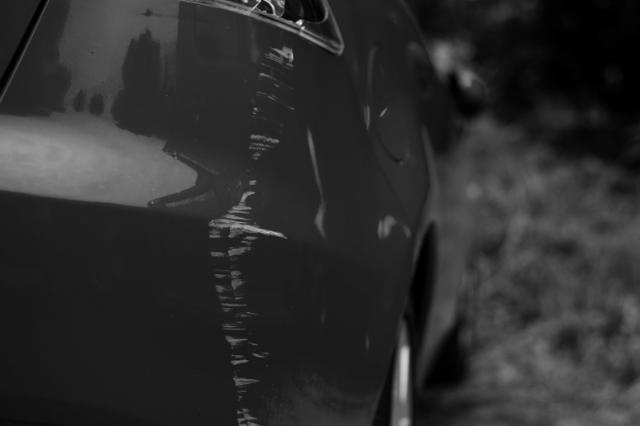Bumper: (166, 24, 363, 426)
